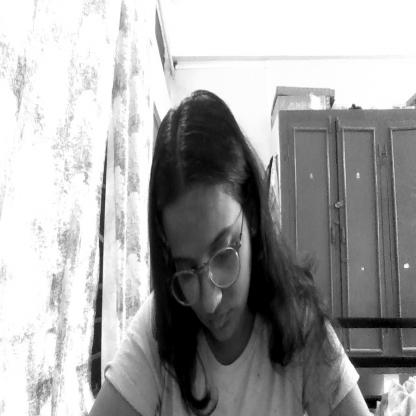Distracted: (150, 95, 257, 346)
